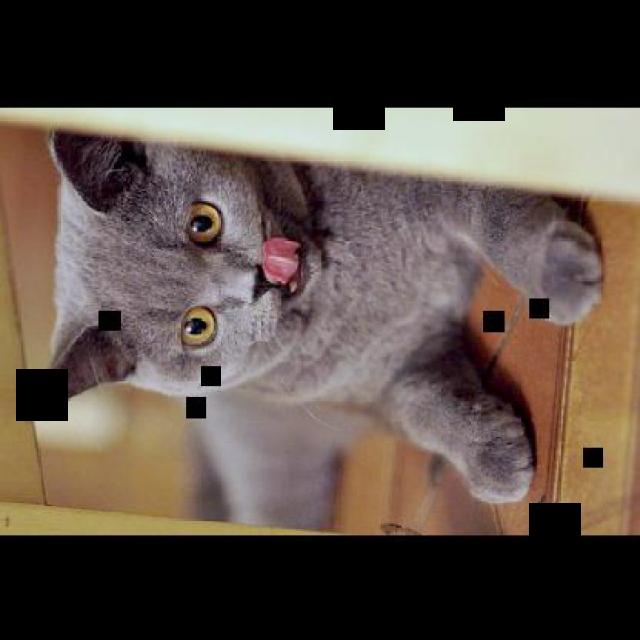unauthorized: (32, 128, 605, 510)
